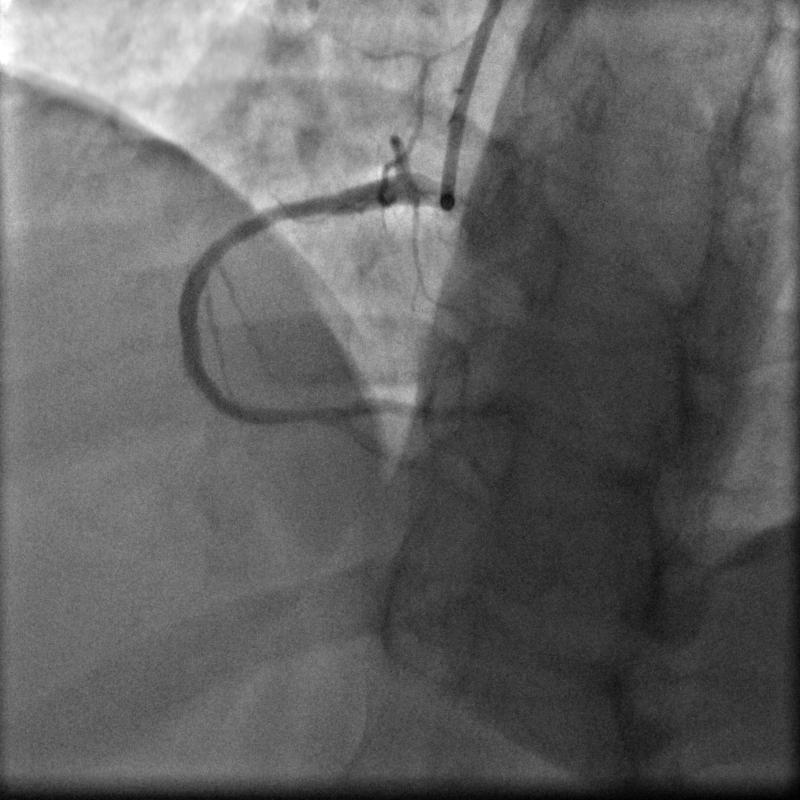Stenosis: (289, 400, 339, 429)
